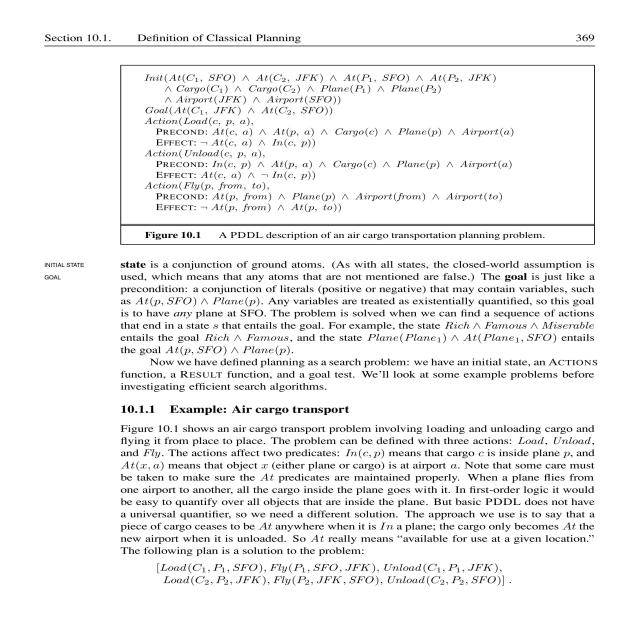diagram: (76, 58, 640, 247)
